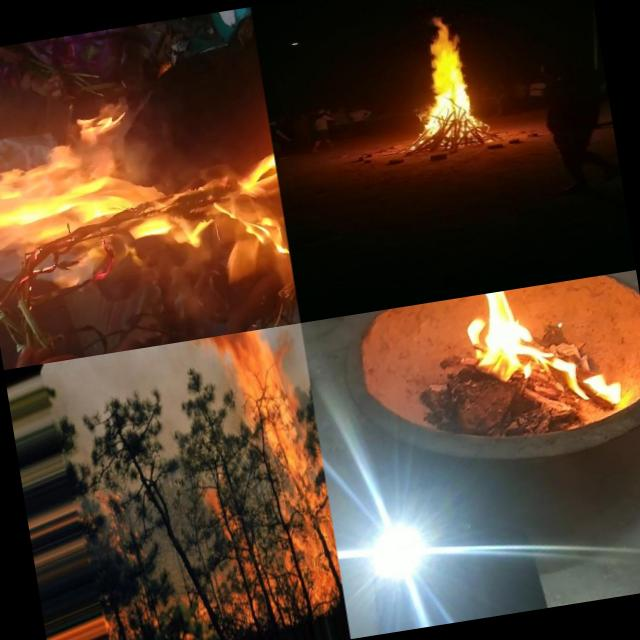fire: (195, 324, 348, 636), (442, 276, 627, 440), (403, 12, 488, 134)
